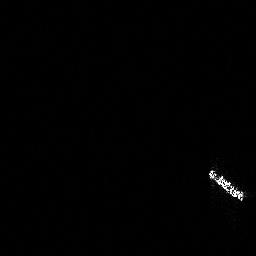ship: (208, 167, 245, 203)
